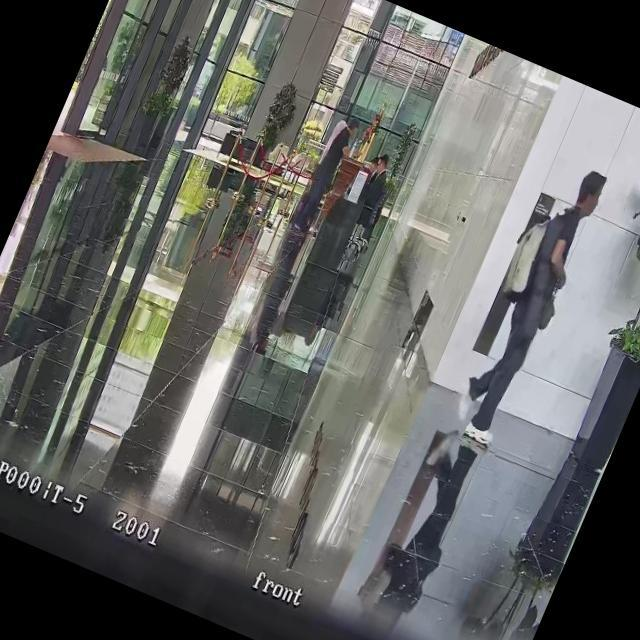person: (444, 158, 610, 451), (286, 110, 363, 243), (353, 151, 396, 218)
